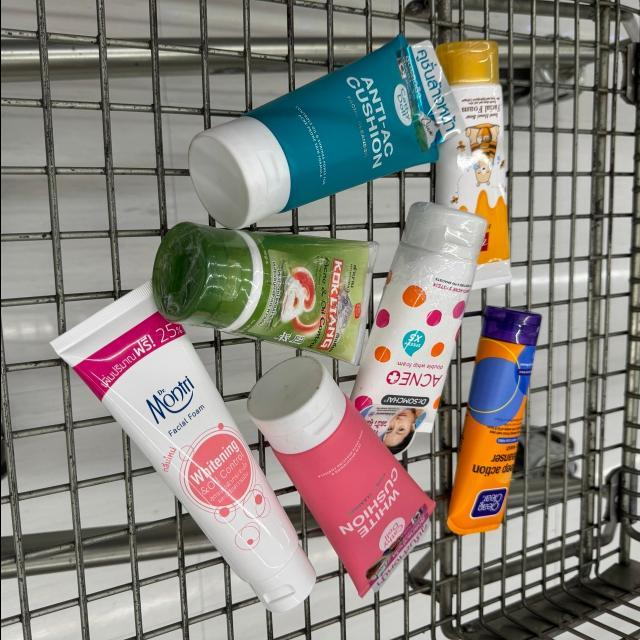Squeeze Tube: (37, 266, 335, 629), (154, 23, 484, 248), (233, 335, 452, 616), (337, 189, 508, 451), (144, 210, 388, 378), (432, 297, 553, 547), (413, 36, 523, 296)
